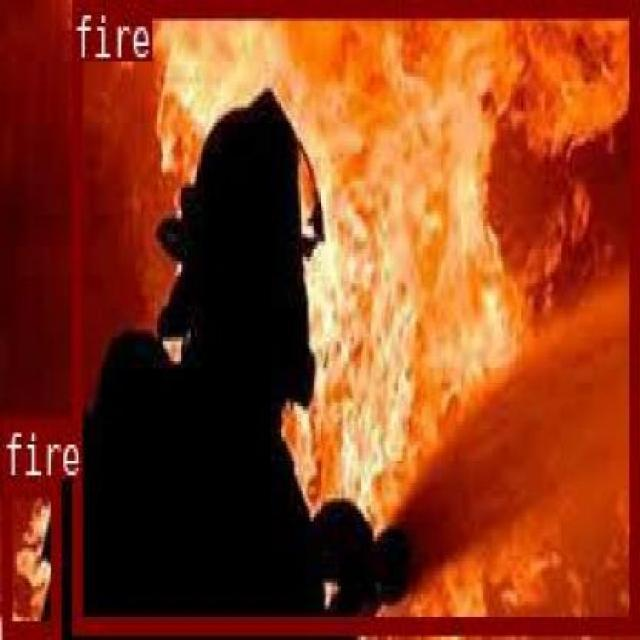Fire: (71, 0, 636, 629), (0, 478, 57, 632)
